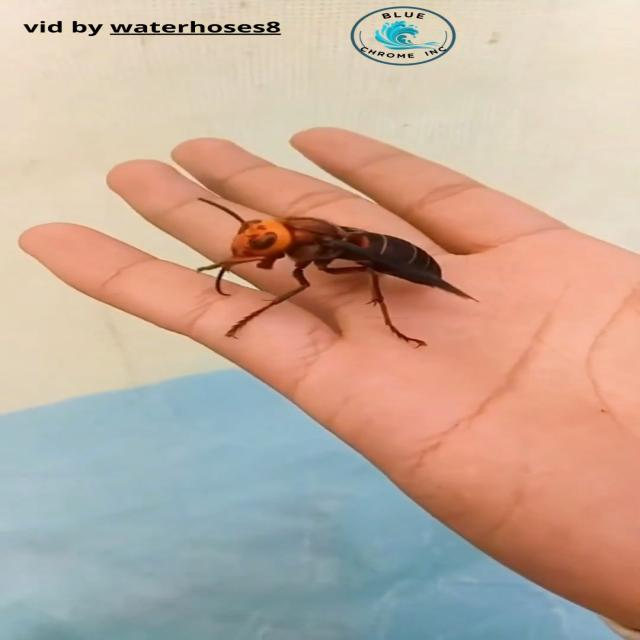Hornets: (189, 196, 482, 349)
